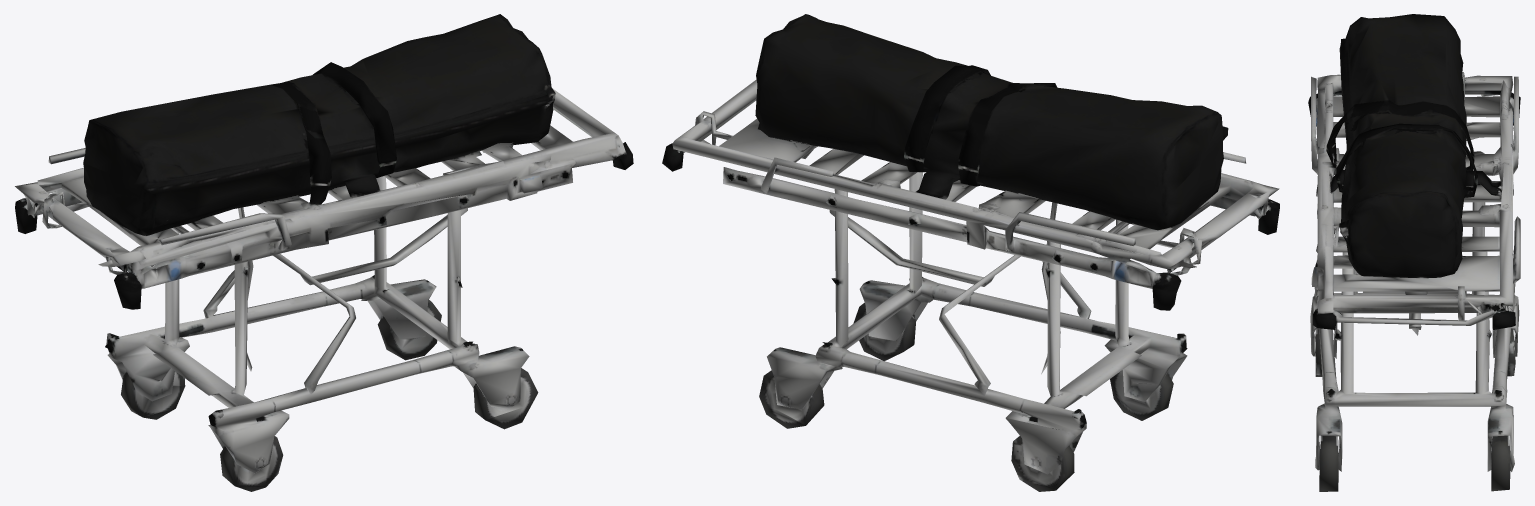
File: med_gurney_bodybag.glb
The picture shows the model from 3 angles, left to right: view 1: azimuth 30°, elevation 25°; view 2: azimuth 150°, elevation 25°; view 3: azimuth 270°, elevation 25°; orthographic projection. The views are drawn at different scales.
Visible parts, largest first — view 1: med_gurney_bodybag; view 2: med_gurney_bodybag; view 3: med_gurney_bodybag.
Boxes of the visible parts, <box> form: med_gurney_bodybag: <box>15,14,633,491</box>; med_gurney_bodybag: <box>662,14,1279,491</box>; med_gurney_bodybag: <box>1308,14,1520,491</box>.
Bounding box in the file's own units: 2 × 1.3 × 0.7712.
1 material, 1 textured.
